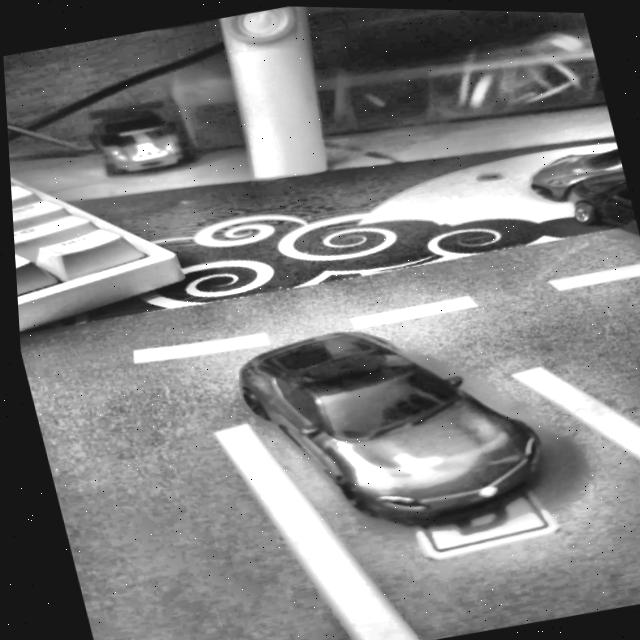car: (224, 295, 554, 554), (503, 129, 628, 211), (85, 94, 196, 181), (554, 164, 640, 274)
